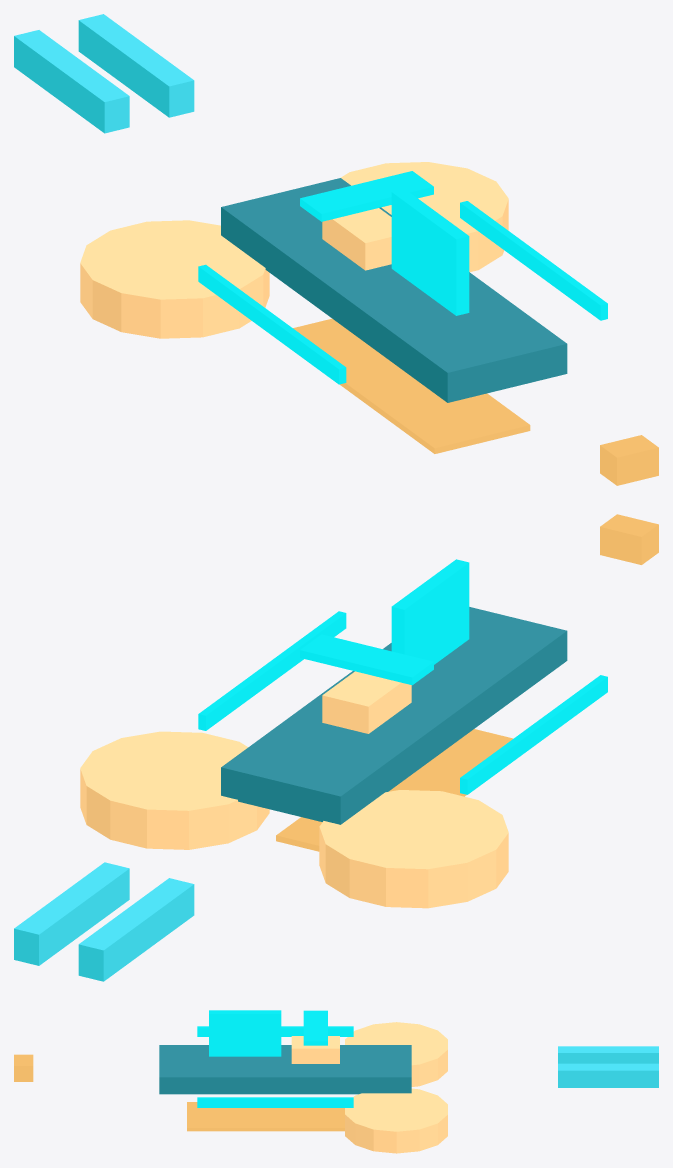
The model's file is specter.glb.
3 views of the same model, one above another, from view 1: azimuth 30°, elevation 25°; view 2: azimuth 150°, elevation 25°; view 3: azimuth 270°, elevation 25° (orthographic). The views are drawn at different scales.
Visible parts, largest first — view 1: chassis, wheel_l, trail_underglow, glow_fin, body_nose_r, body_nose_l, wheel_r, glow_strip_side, glow_strip_side.001, glow_strip_roof, canopy_wheel, emitter; view 2: chassis, wheel_l, wheel_r, glow_fin, body_nose_l, body_nose_r, trail_underglow, canopy_wheel, glow_strip_roof, glow_strip_side, glow_strip_side.001, emitter; view 3: chassis, wheel_r, trail_underglow, glow_fin, wheel_l, body_nose_r, body_nose_l, glow_strip_side.001, canopy_wheel, glow_strip_roof, glow_strip_side, emitter.
Part boxes in pixels (left/top/right/bottom): chassis: left=221, top=178, right=567, bottom=402; wheel_l: left=80, top=220, right=269, bottom=338; trail_underglow: left=293, top=318, right=530, bottom=453; glow_fin: left=391, top=189, right=469, bottom=315; body_nose_r: left=78, top=14, right=194, bottom=117; body_nose_l: left=14, top=30, right=129, bottom=133; wheel_r: left=340, top=162, right=508, bottom=271; glow_strip_side: left=198, top=264, right=346, bottom=384; glow_strip_side.001: left=460, top=201, right=607, bottom=320; glow_strip_roof: left=300, top=171, right=433, bottom=221; canopy_wheel: left=322, top=208, right=391, bottom=270; emitter: left=600, top=435, right=658, bottom=485; chassis: left=221, top=607, right=567, bottom=824; wheel_l: left=319, top=790, right=508, bottom=908; wheel_r: left=80, top=731, right=269, bottom=849; glow_fin: left=391, top=559, right=469, bottom=664; body_nose_l: left=78, top=878, right=194, bottom=981; body_nose_r: left=14, top=862, right=129, bottom=965; trail_underglow: left=276, top=729, right=513, bottom=851; canopy_wheel: left=322, top=671, right=411, bottom=733; glow_strip_roof: left=300, top=634, right=433, bottom=685; glow_strip_side: left=460, top=675, right=607, bottom=794; glow_strip_side.001: left=198, top=611, right=346, bottom=730; emitter: left=600, top=514, right=658, bottom=564; chassis: left=159, top=1045, right=411, bottom=1094; wheel_r: left=345, top=1088, right=447, bottom=1153; trail_underglow: left=187, top=1102, right=344, bottom=1131; glow_fin: left=209, top=1010, right=281, bottom=1056; wheel_l: left=345, top=1022, right=447, bottom=1086; body_nose_r: left=558, top=1063, right=658, bottom=1087; body_nose_l: left=558, top=1046, right=658, bottom=1063; glow_strip_side.001: left=197, top=1097, right=353, bottom=1107; canopy_wheel: left=291, top=1036, right=339, bottom=1063; glow_strip_roof: left=303, top=1010, right=327, bottom=1045; glow_strip_side: left=197, top=1026, right=353, bottom=1036; emitter: left=14, top=1054, right=33, bottom=1081.
Size of the model in its own units: 0.54 by 0.2433 by 1.34.
